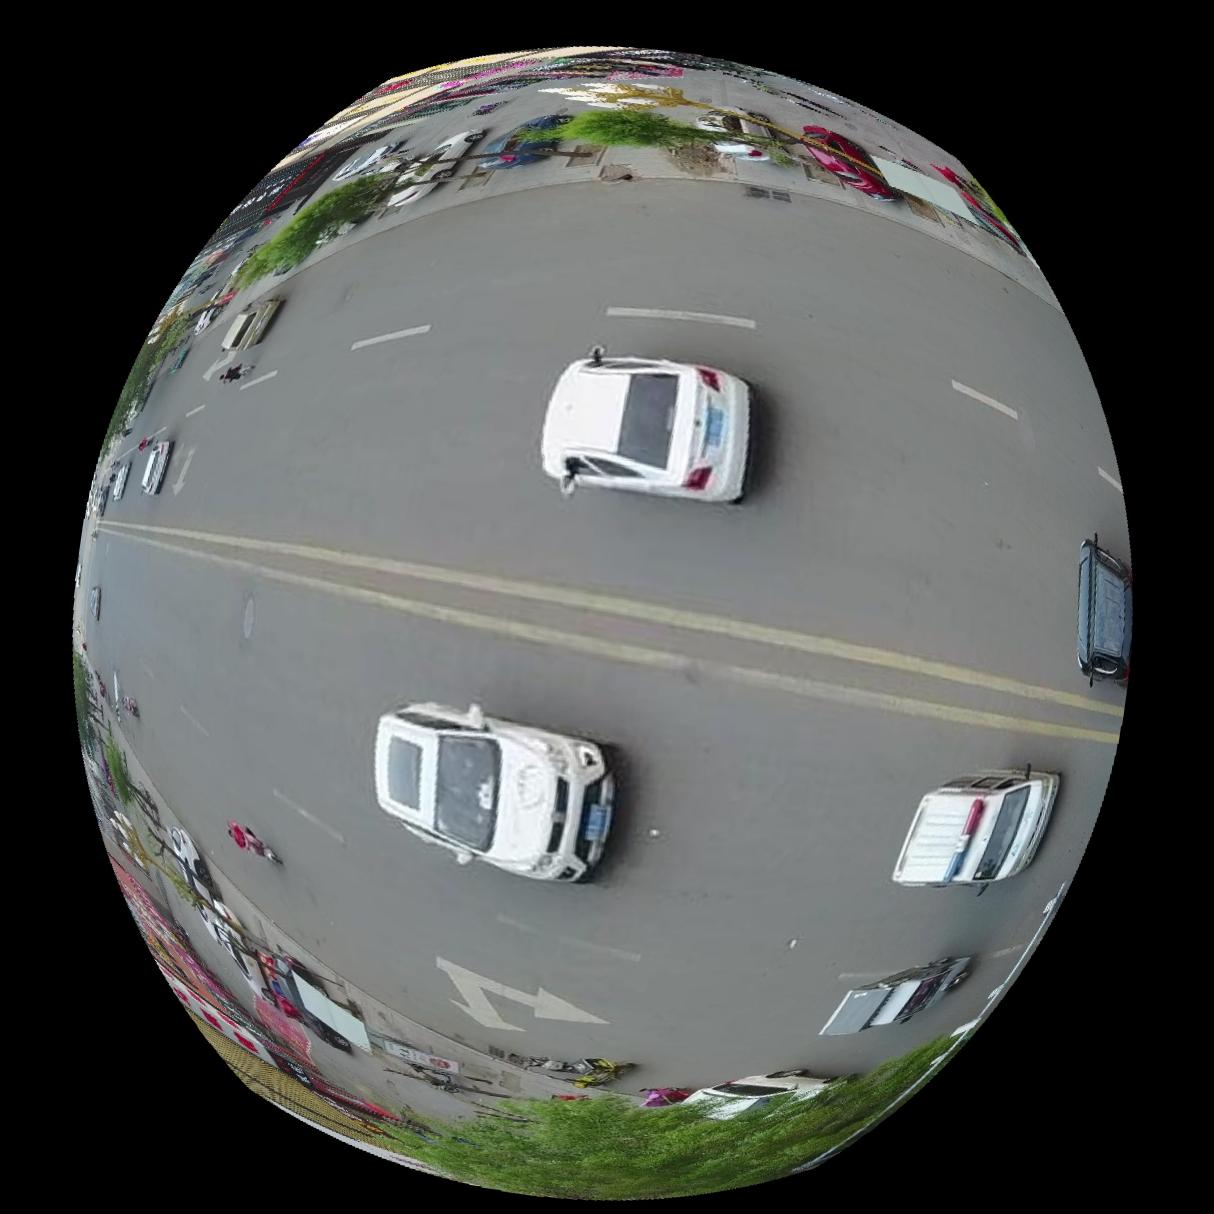cars: (374, 701, 616, 883), (541, 347, 752, 500), (894, 772, 1061, 886), (822, 956, 972, 1035), (1081, 536, 1135, 684), (220, 296, 281, 348), (140, 438, 171, 491)
trees: (392, 1028, 968, 1200)
